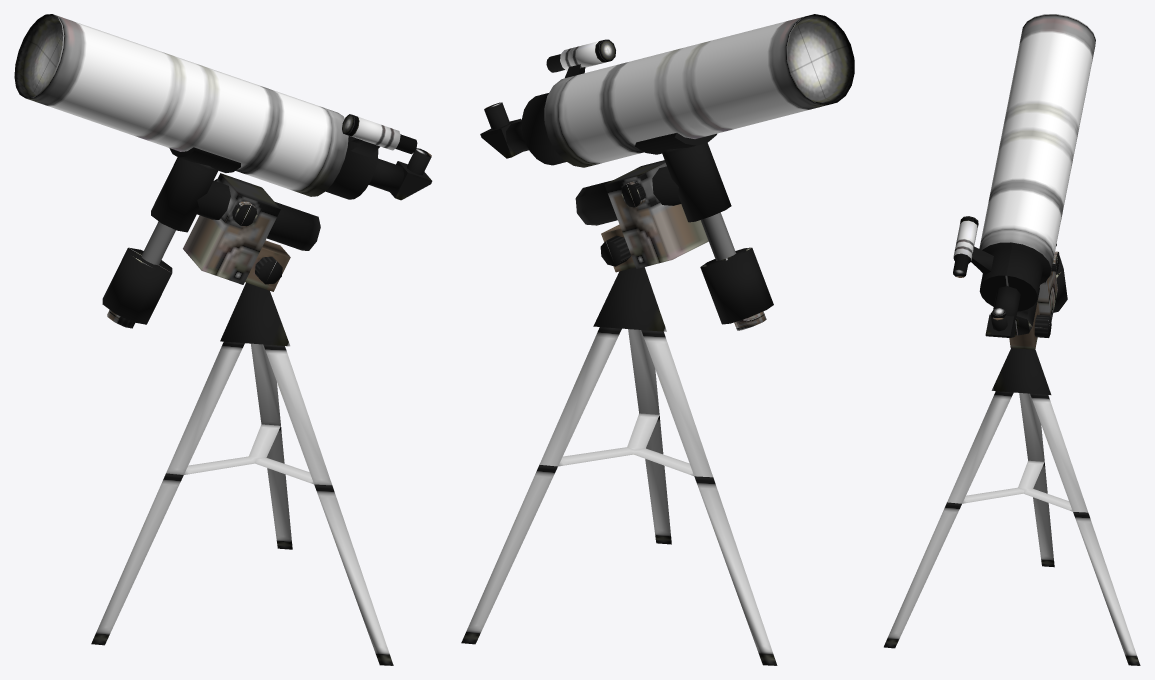
File: int_oth_telescope.dae
3 views of the same model, side by side, from view 1: azimuth 30°, elevation 25°; view 2: azimuth 150°, elevation 25°; view 3: azimuth 270°, elevation 25° (orthographic). The views are drawn at different scales.
Parts seen in each view (by area): view 1: int_oth_telescope; view 2: int_oth_telescope; view 3: int_oth_telescope.
Boxes of the visible parts, box(x1,y1,x2,y2) form: int_oth_telescope: box(14, 14, 432, 665); int_oth_telescope: box(461, 14, 854, 665); int_oth_telescope: box(884, 14, 1140, 665).
Bounding box in the file's own units: 23.45 × 37.72 × 16.39.
1 material, 1 textured.
